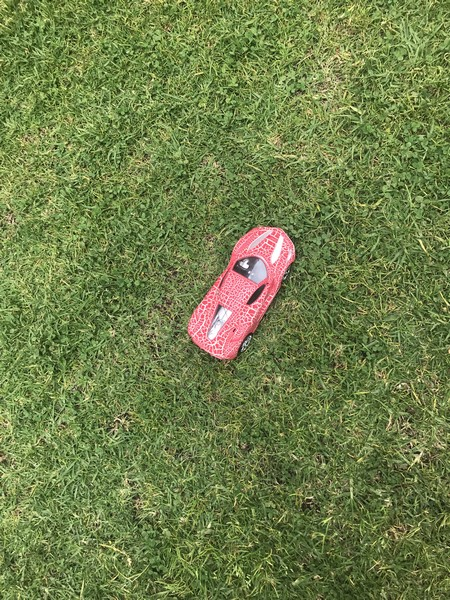RC: (187, 226, 298, 363)
